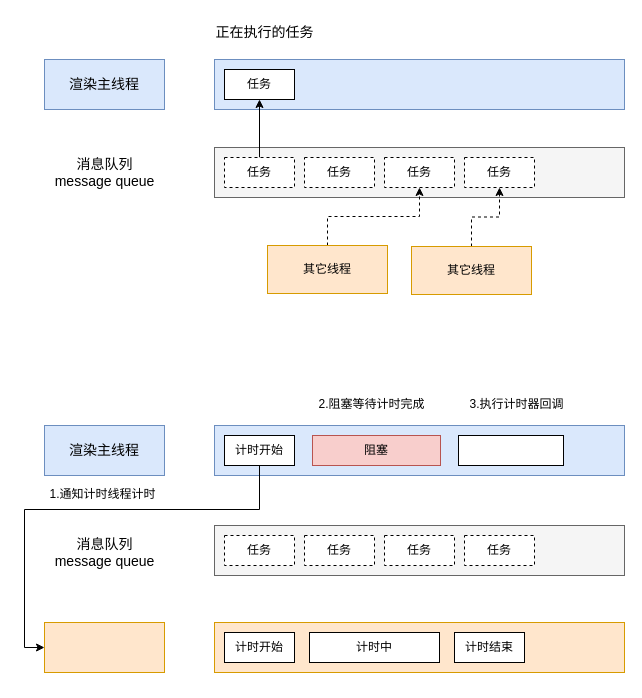
Image size: 642x698. Some labels were removed from this diagram. The shapes that lost their labels are listed below. From the top down, each one's centre as x and y in pixels, then its label:
(511,450): 运行计时后续任务
(104,647): 计时线程
